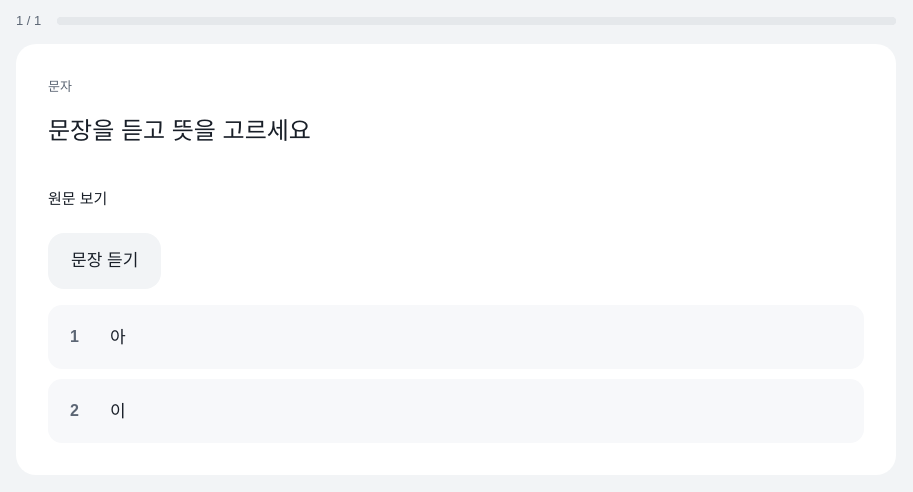
it: hides a listening source until requested when speech is available
This screenshot has width=913, height=492.
Expected: the text "おはよう" is not shown
Click the button "원문 보기" at point(78, 197), box 48,173 -> 107,221
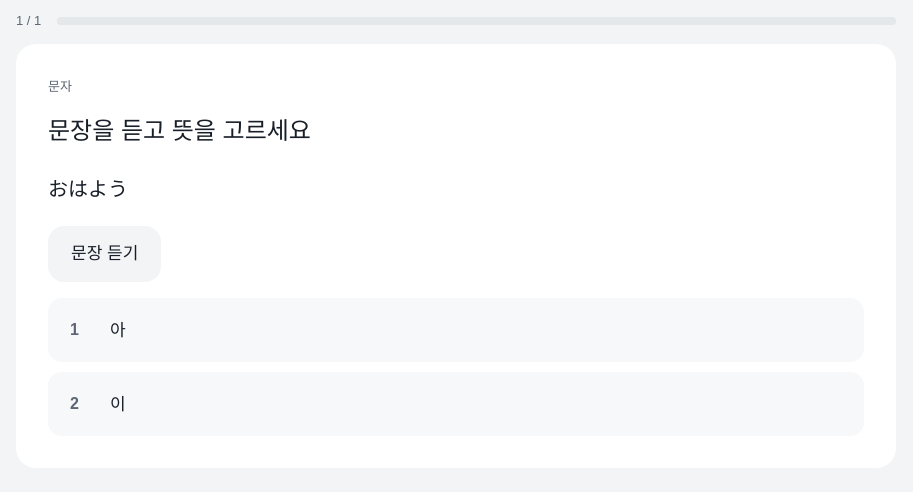
Now the text "おはよう" is shown, box 48,178 -> 128,200
